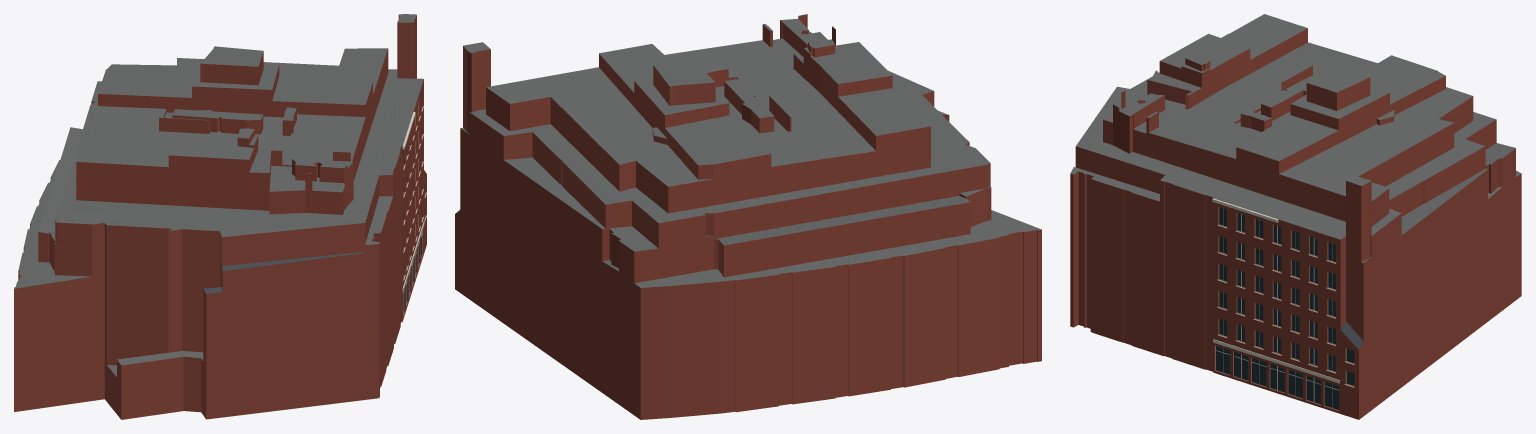
The model's file is recipe-large-damrak-77-165746.glb.
3 views of the same model, side by side, from view 1: azimuth 30°, elevation 25°; view 2: azimuth 150°, elevation 25°; view 3: azimuth 270°, elevation 25° (orthographic). The views are drawn at different scales.
Parts seen in each view (by area): view 1: damrak-77-165746; view 2: damrak-77-165746; view 3: damrak-77-165746.
Part boxes in pixels (x1,y1,x2,y2): damrak-77-165746: [14, 14, 426, 419]; damrak-77-165746: [455, 14, 1041, 419]; damrak-77-165746: [1070, 14, 1521, 419].
Bounding box in the file's own units: 79.99 × 38.88 × 65.45.
